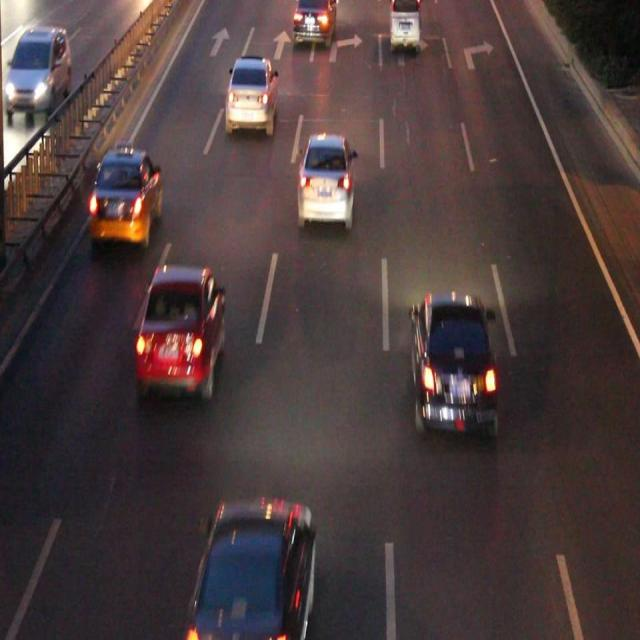car: (188, 506, 312, 640), (410, 299, 495, 432), (138, 271, 224, 390), (92, 148, 161, 238), (298, 135, 351, 223), (226, 58, 276, 128), (293, 1, 334, 39)
truck: (390, 1, 419, 49)
